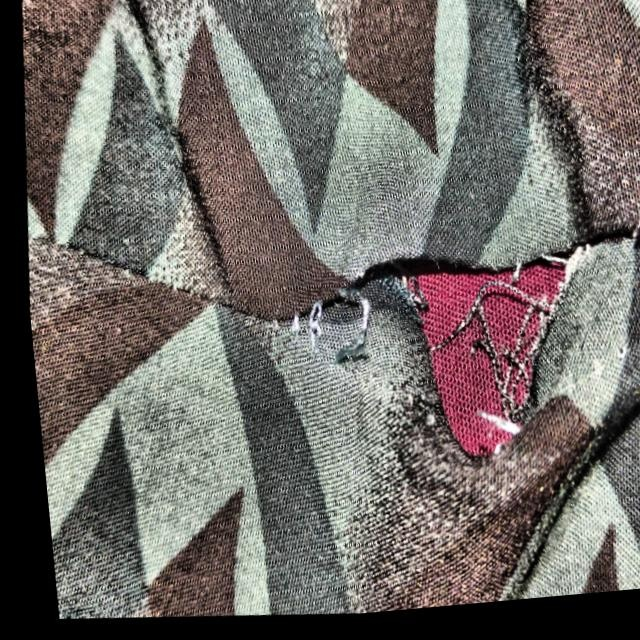seam: (214, 156, 639, 536)
